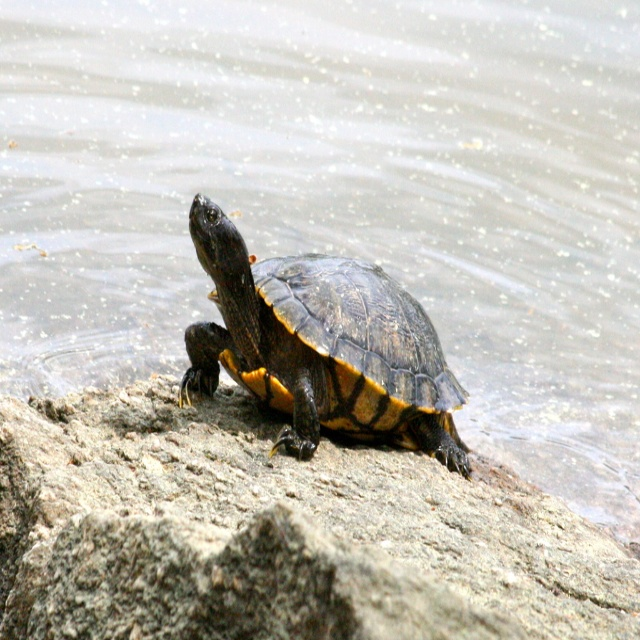Sea turtle: (179, 190, 473, 484)
